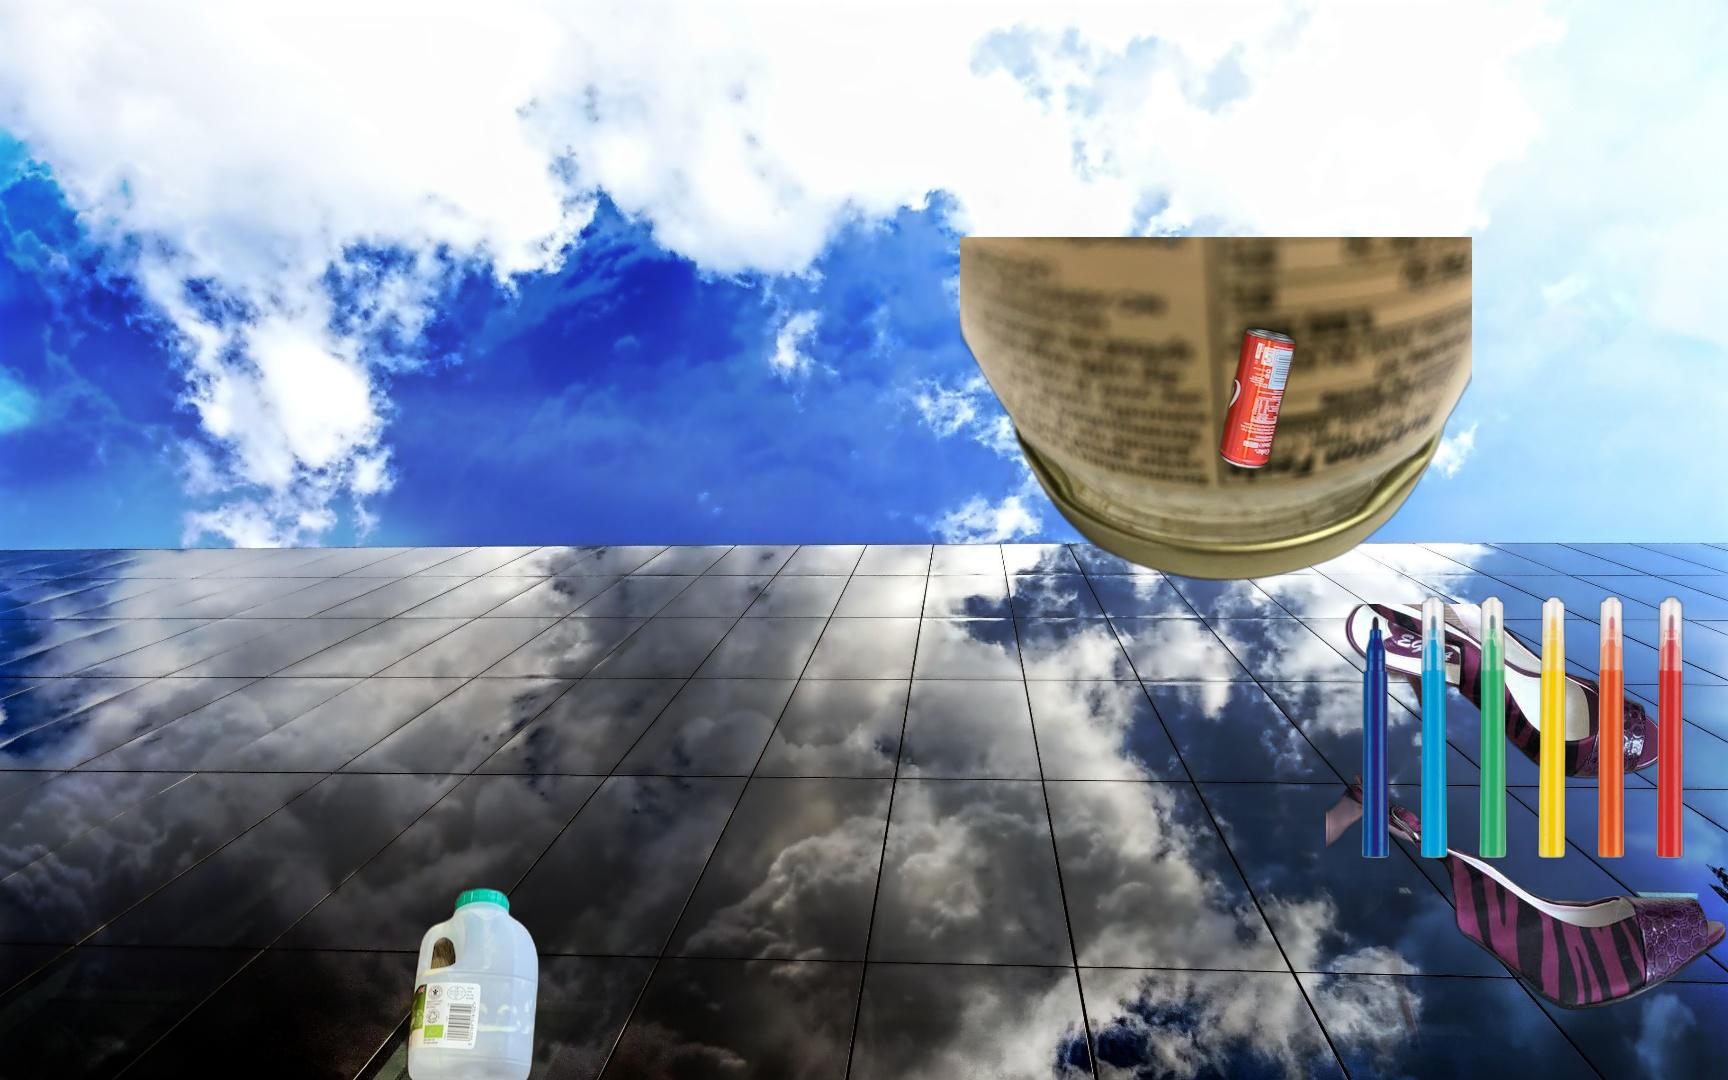glass: (960, 236, 1472, 584)
metal-cans: (1215, 321, 1300, 475)
penholder: (1359, 594, 1716, 888)
plastic-bottles: (402, 859, 542, 1080)
shoes: (1326, 603, 1726, 1049)
